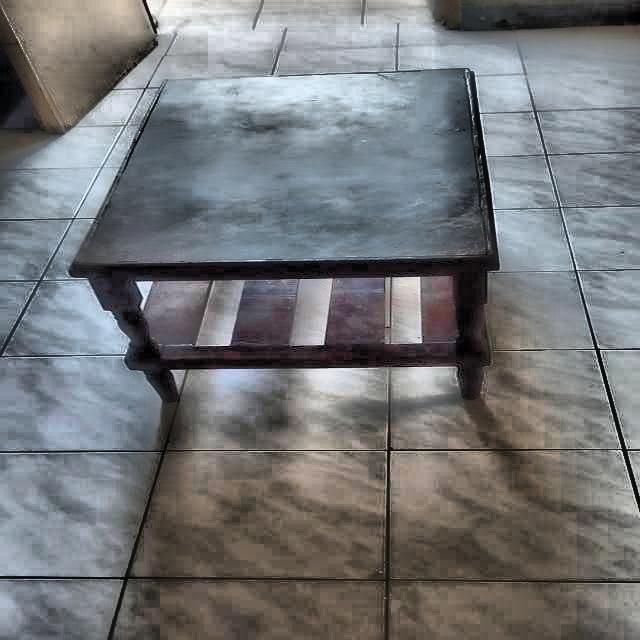mesa: (67, 59, 506, 413)
